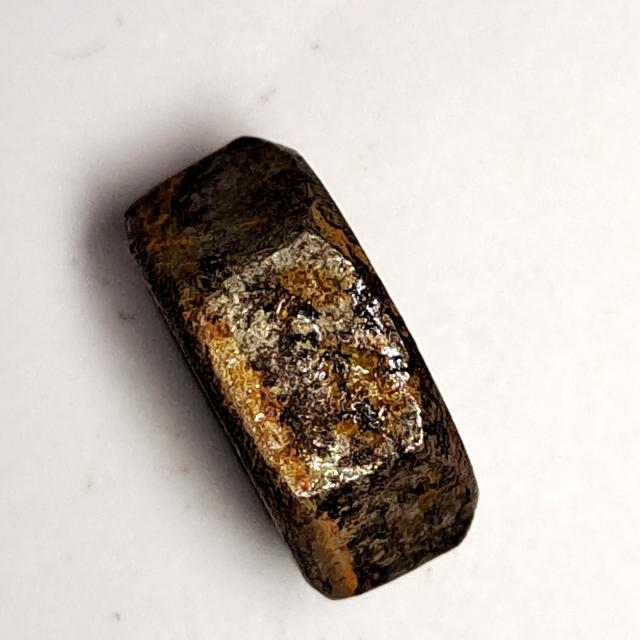Side_Rust: (104, 126, 508, 614)
